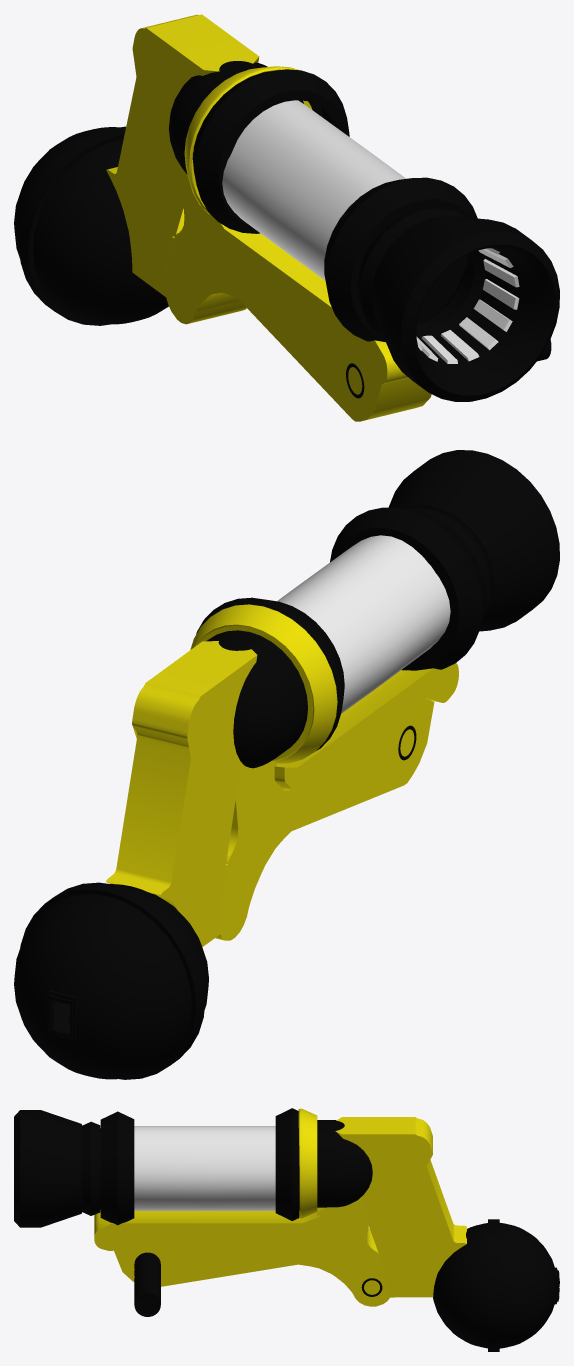
Rendered from Fix Casual gun.fbx.
3 renders of one model, top to bottom at view 1: azimuth 30°, elevation 25°; view 2: azimuth 150°, elevation 25°; view 3: azimuth 270°, elevation 25°, orthographic. The views are drawn at different scales.
Parts seen in each view (by area): view 1: Plane.002; view 2: Plane.002; view 3: Plane.002.
Part boxes in pixels (x1=…): Plane.002: x1=14, y1=14, x2=559, y2=421; Plane.002: x1=14, y1=450, x2=559, y2=1079; Plane.002: x1=14, y1=1108, x2=559, y2=1351.
Bounding box in the file's own units: 886 × 1247 × 2652.
